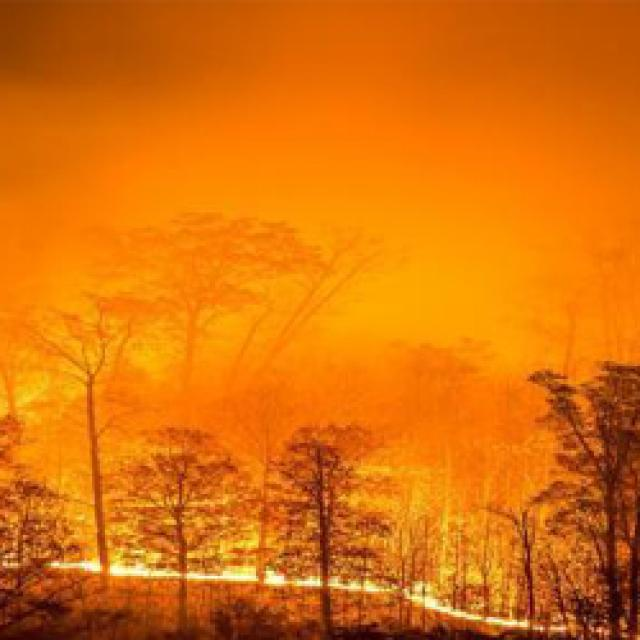Fire: (49, 556, 398, 594), (401, 581, 567, 638)
Smoke: (0, 0, 640, 445)
